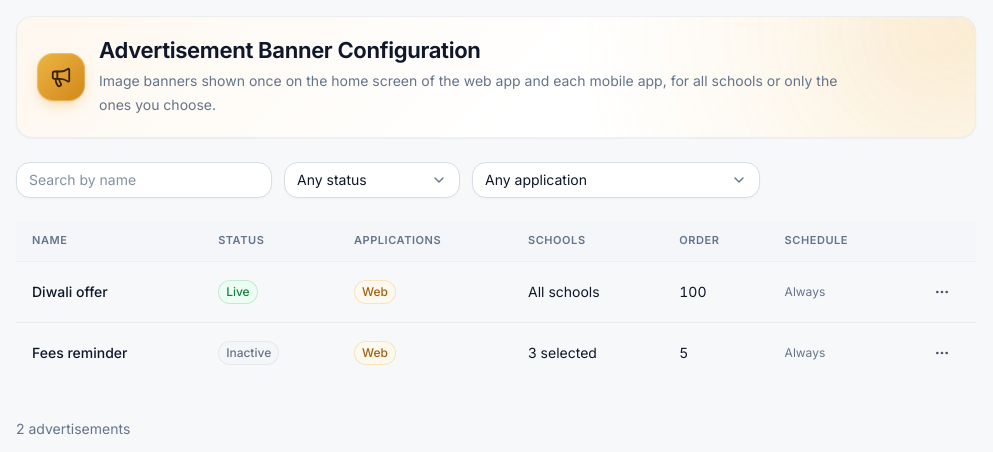
it: the advertisement list › lists advertisements with status, apps, schools and order for someone who can only view
Expected: the text "Diwali offer" is shown, [16,262,202,322]
Expected: the heading "Advertisement Banner Configuration" is shown, [99,37,481,63]
Click the button named "Actions for Diwali offer": (942, 292) [924,274,960,310]
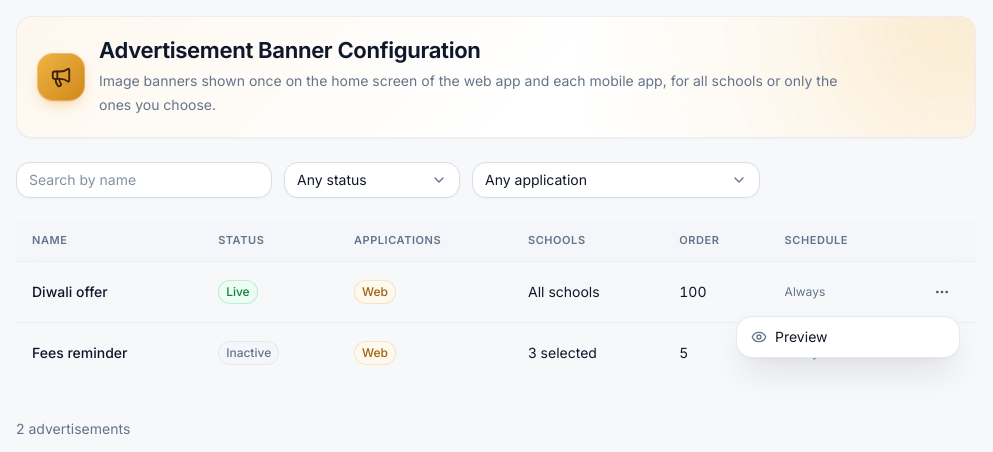
Result: the menu item "Preview" is shown at [751,328,828,345]
